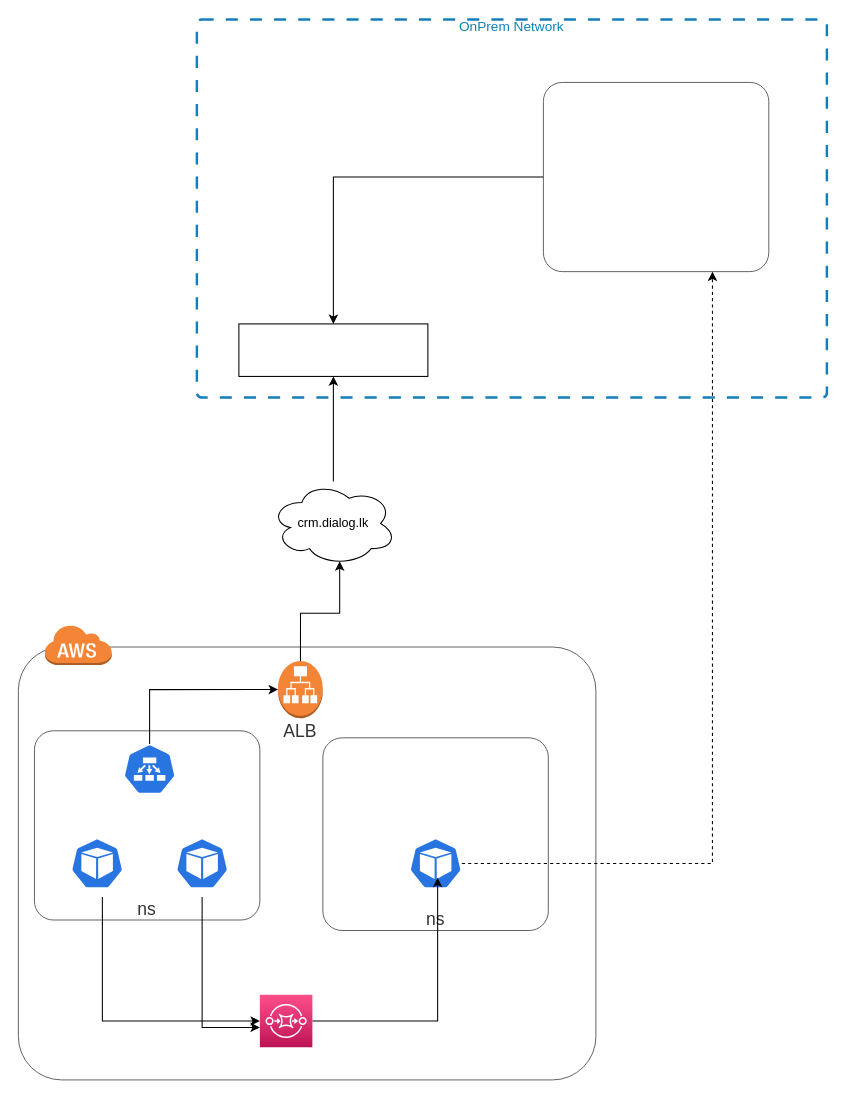
Image size: 846x1098. Some labels were removed from this diagram. Here are the shapes that lost their labels. From the top down, the box of each, then its label:
(542, 81, 769, 272): cfss
(238, 323, 428, 376): MIFE
(17, 646, 596, 1080): AWS cloud
